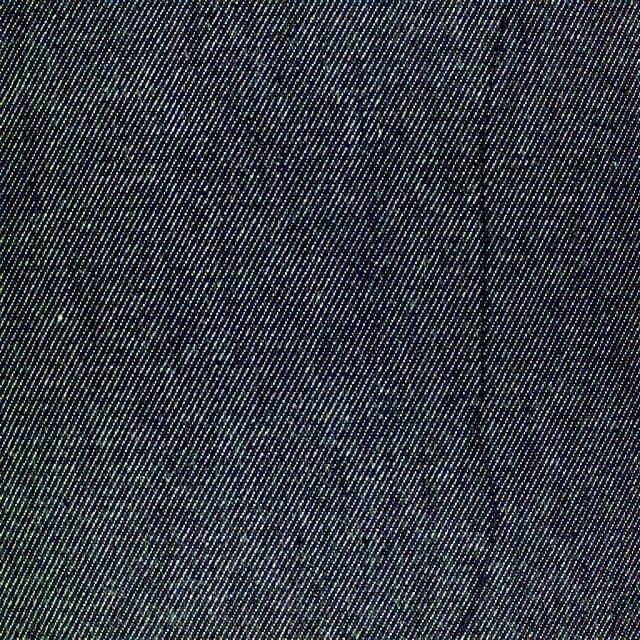defect: (443, 24, 517, 640)
